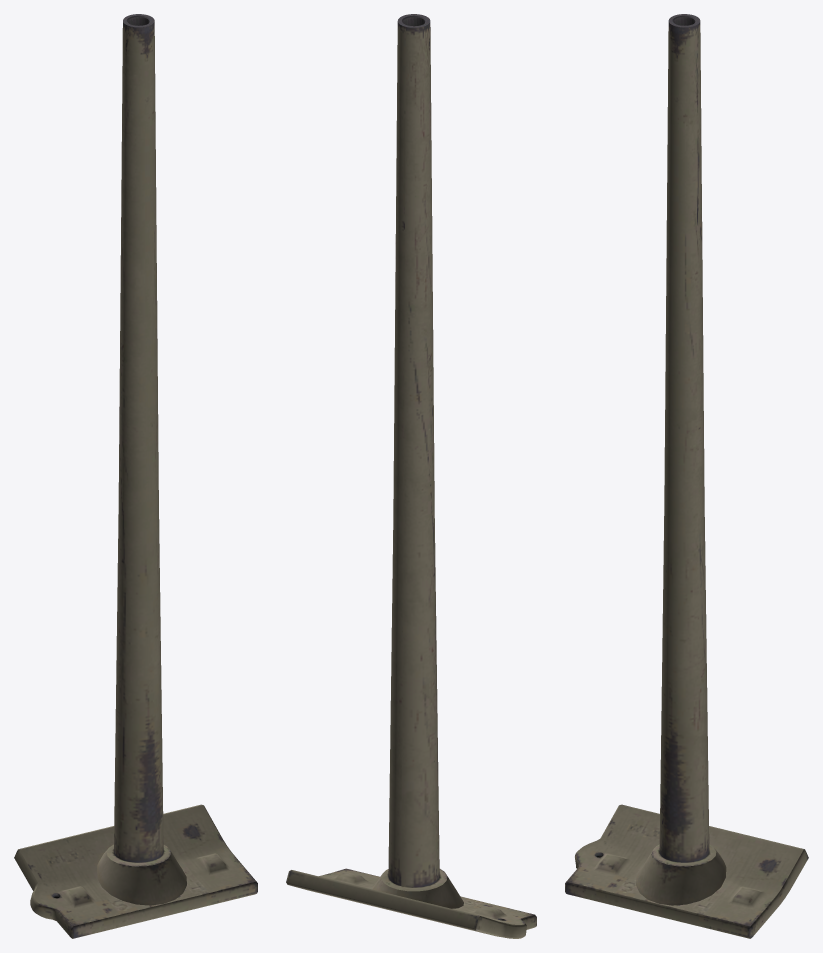
Rendered from Gun_01.glb.
The picture shows the model from 3 angles, left to right: view 1: azimuth 30°, elevation 25°; view 2: azimuth 150°, elevation 25°; view 3: azimuth 330°, elevation 25°; orthographic projection. The views are drawn at different scales.
Parts seen in each view (by area): view 1: set_0_group_0; view 2: set_0_group_0; view 3: set_0_group_0.
Part boxes in pixels (<box>): set_0_group_0: <box>14,14,257,938</box>; set_0_group_0: <box>286,14,536,938</box>; set_0_group_0: <box>565,14,808,938</box>.
Size of the model in its own units: 1.32 by 5.55 by 0.6703.
Materials: 1 (1 with a texture image).
